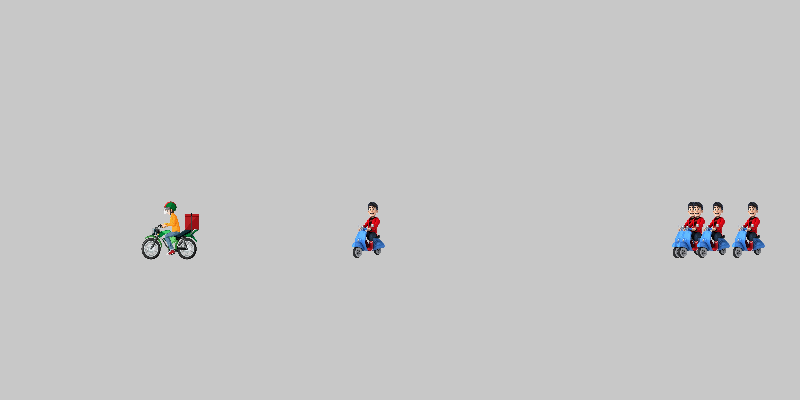helmet: (140, 200, 200, 260)
no_helmet: (340, 200, 400, 260), (660, 200, 720, 260), (665, 200, 725, 260), (685, 200, 745, 260), (720, 200, 780, 260)
